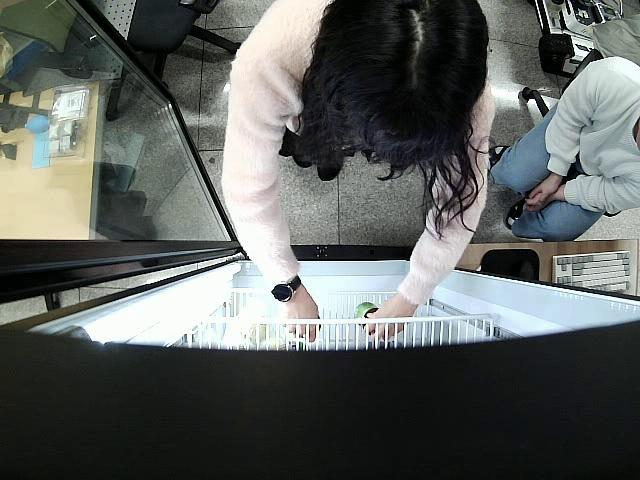19_17cha: (355, 298, 381, 334)
